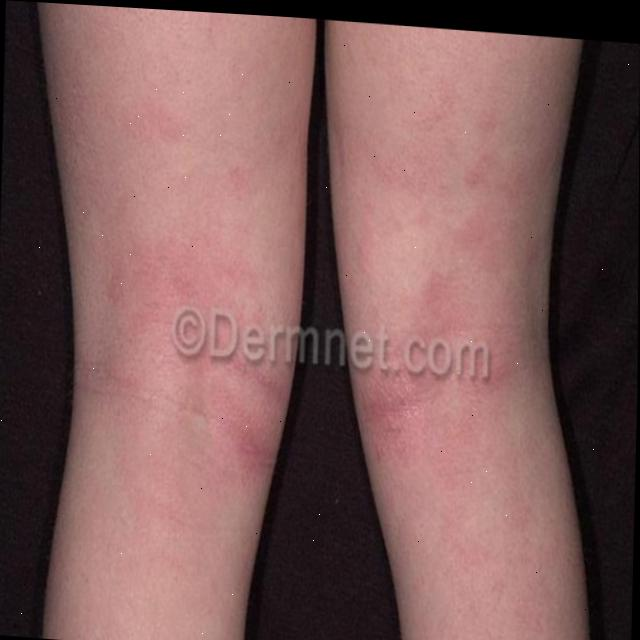Eczema: (42, 157, 527, 497)
